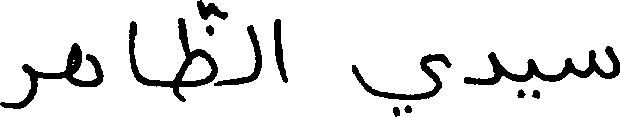X: (353, 49, 451, 116), (173, 0, 216, 106), (565, 41, 619, 83), (0, 59, 37, 113), (67, 38, 103, 91), (465, 47, 501, 89), (248, 20, 260, 87), (275, 14, 286, 87), (129, 16, 140, 87), (528, 54, 536, 102)
